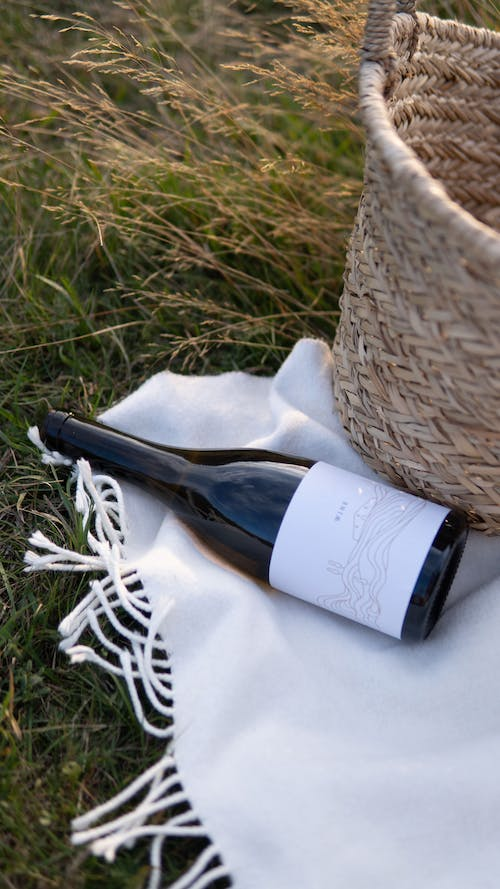alcohol: (38, 406, 474, 650)
